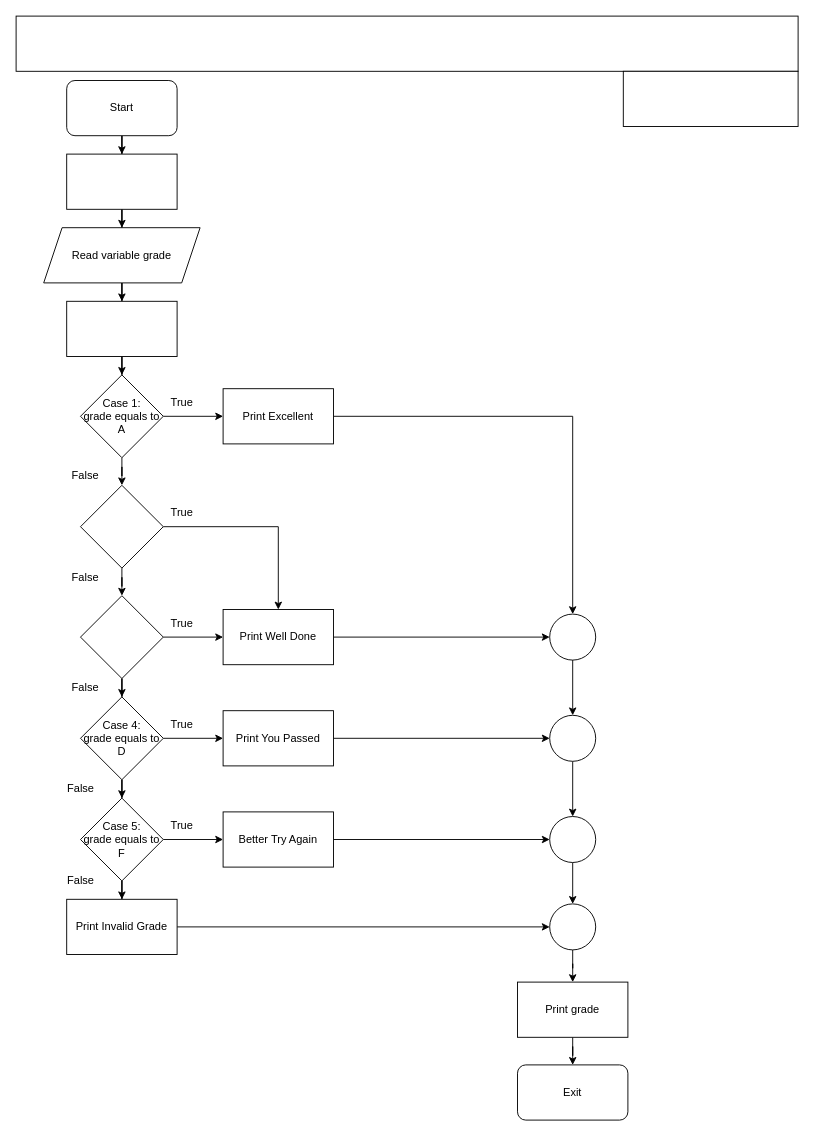
The diagram is 814 pixels wide and 1136 high, and some of its shapes have lost their labels. The shapes that lost their labels are listed below. From the top down, each one's centre as x and y in pixels, then its label:
At [406,43]: "Flow Chart of Switch Case Statement".
At [710,98]: "Program to Find out Grade Information".
At [121,181]: "Declare variable grade".
At [121,328]: "Get grade to check condition".
At [121,526]: "Case 2: grade equals to B".
At [121,636]: "Case 3: grade equals to C".
